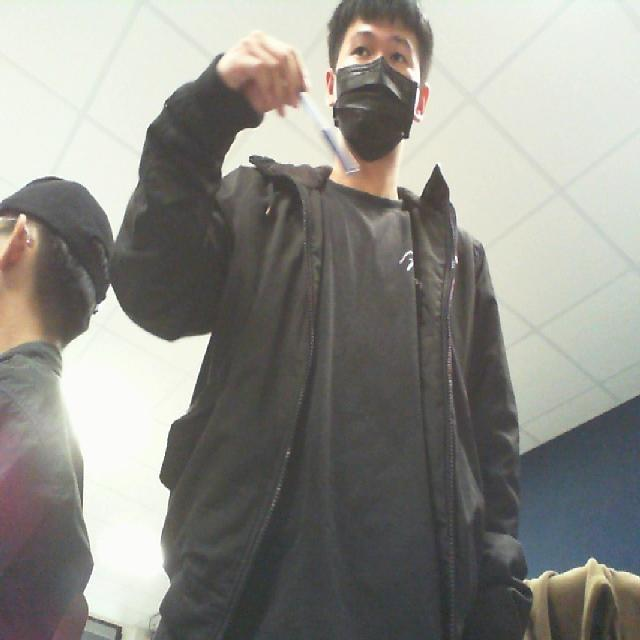Pen: (269, 67, 371, 196)
